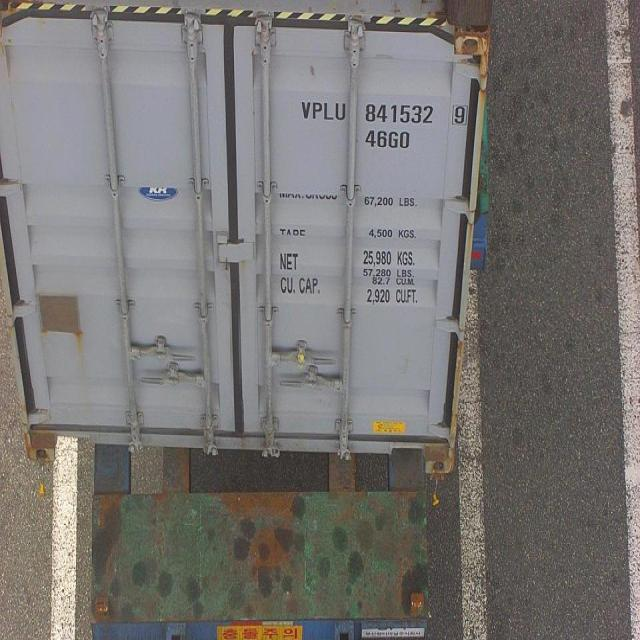ISO: (365, 128, 412, 150)
container_number: (309, 102, 466, 125)
